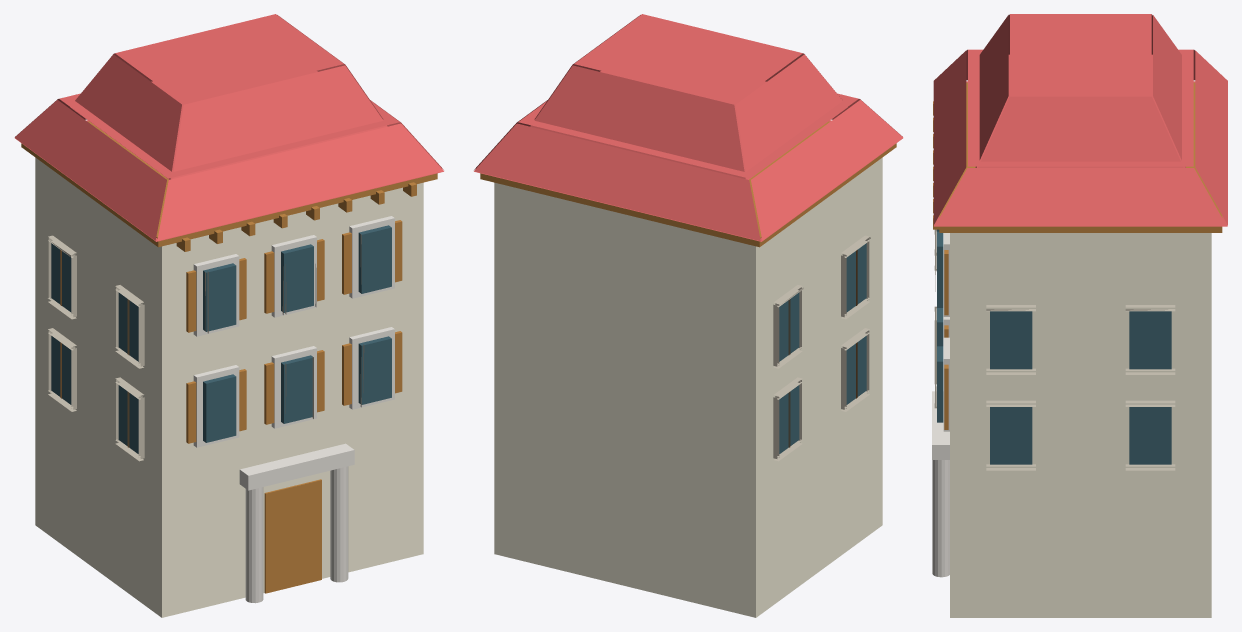
The model's file is city_runtime_03-lod.glb.
The picture shows the model from 3 angles, left to right: view 1: azimuth 30°, elevation 25°; view 2: azimuth 150°, elevation 25°; view 3: azimuth 270°, elevation 25°; orthographic projection. The views are drawn at different scales.
Parts seen in each view (by area): view 1: Exterior architecture detail 3; view 2: Exterior architecture detail 3; view 3: Exterior architecture detail 3.
Part boxes in pixels (bbox=[...]): Exterior architecture detail 3: bbox=[14, 14, 443, 617]; Exterior architecture detail 3: bbox=[474, 14, 903, 617]; Exterior architecture detail 3: bbox=[932, 14, 1227, 617].
Bounding box in the file's own units: 8.17 × 13 × 7.01.
